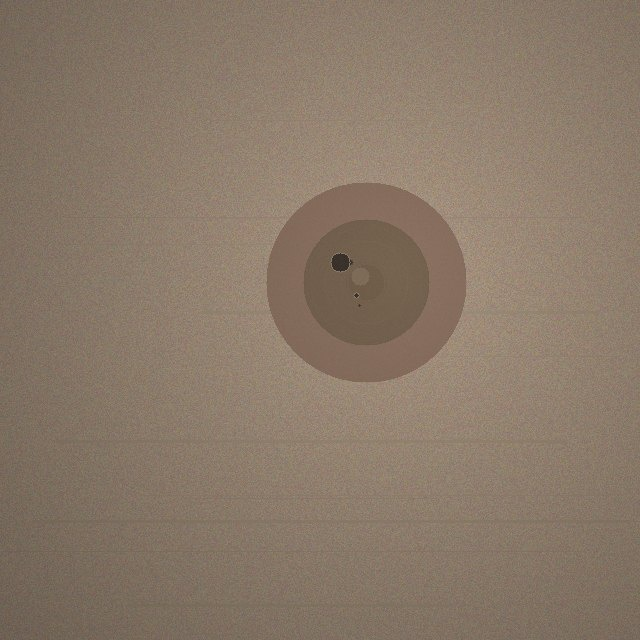shrinkage: (266, 182, 466, 382)
